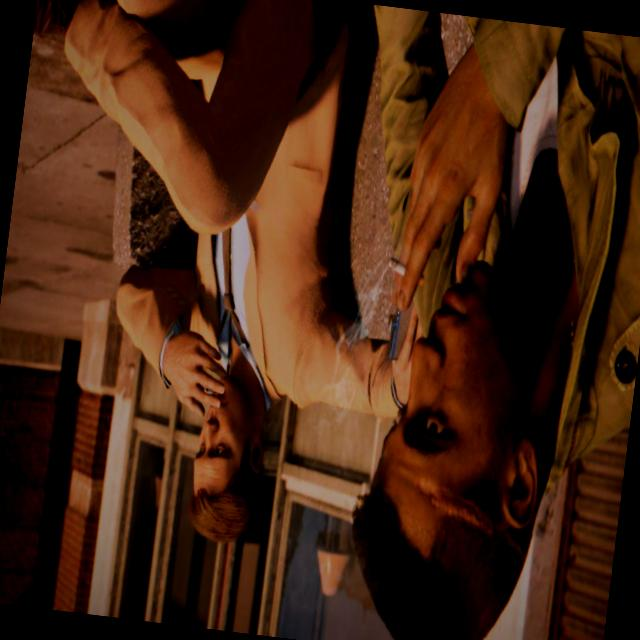cigarette: (368, 247, 432, 303)
